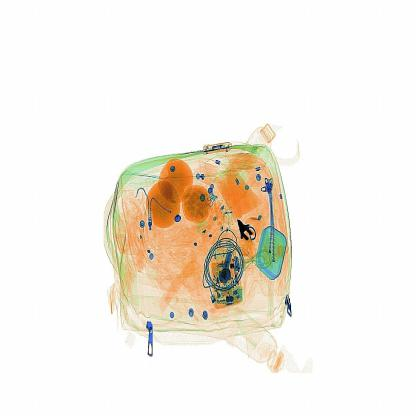gun: (233, 204, 263, 259)
